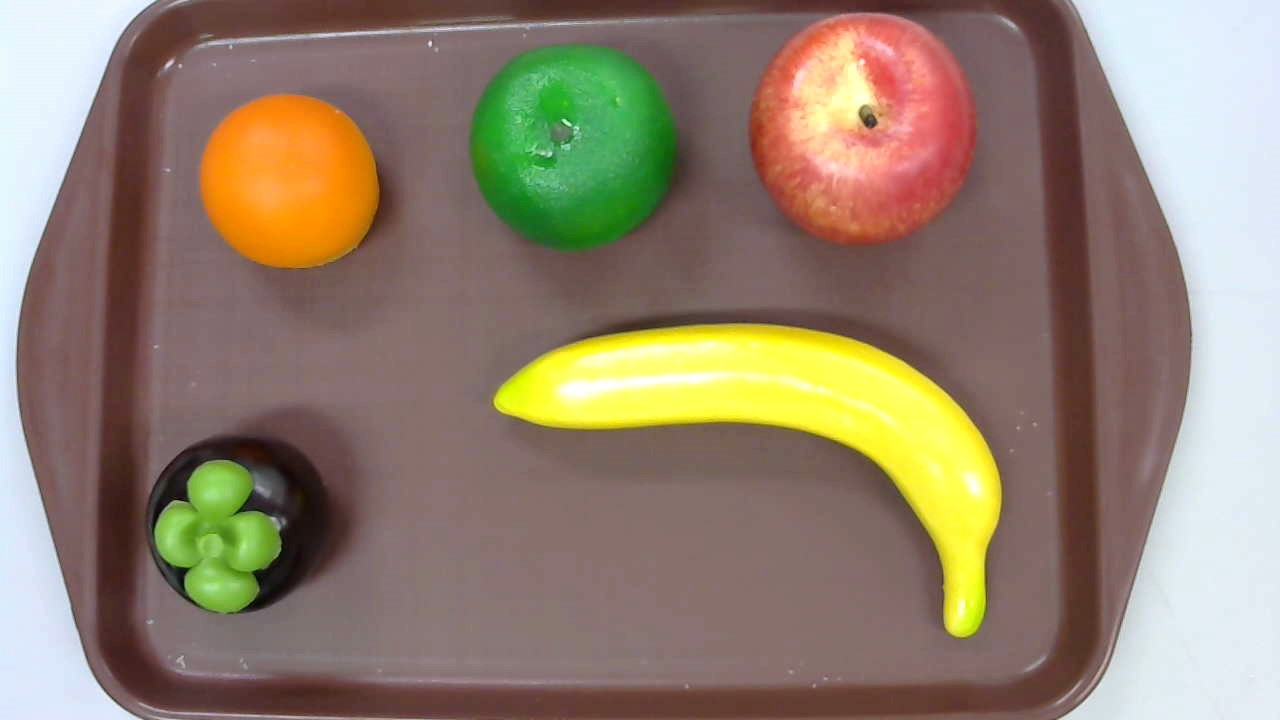banana: (493, 322, 1002, 639)
bun: (198, 91, 378, 271)
green orange: (471, 44, 677, 251)
mangosteen: (146, 429, 335, 616)
red apple: (748, 9, 977, 248)
